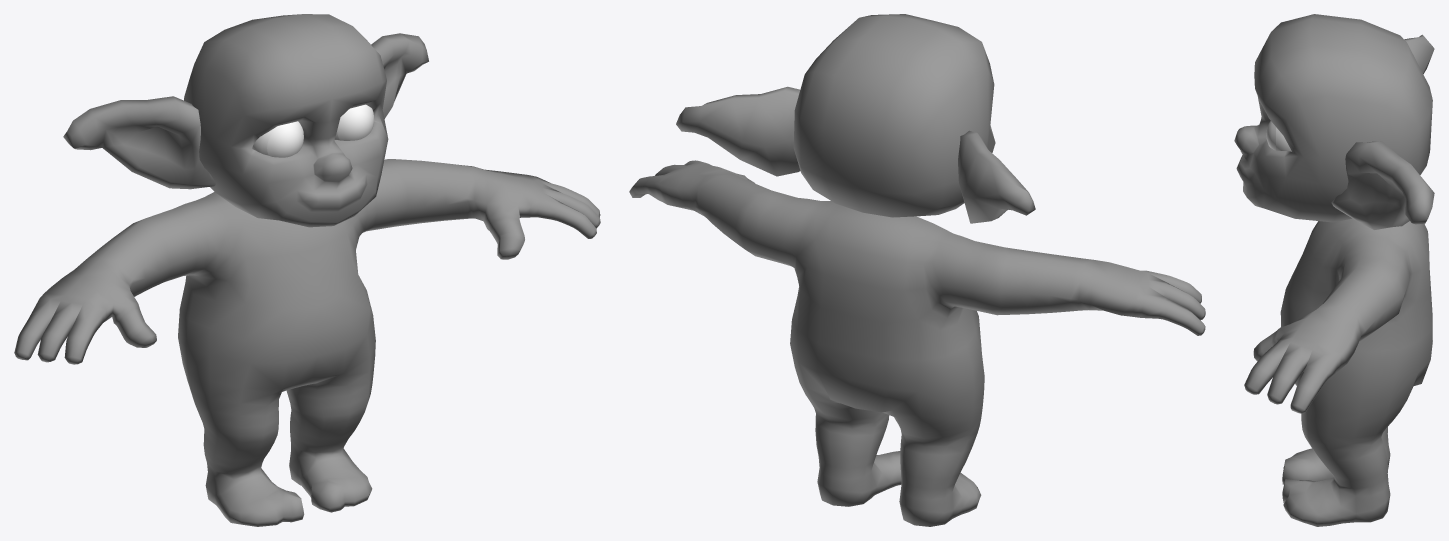
File: goblin.FBX
3 views of the same model, side by side, from view 1: azimuth 30°, elevation 25°; view 2: azimuth 150°, elevation 25°; view 3: azimuth 270°, elevation 25° (orthographic). The views are drawn at different scales.
Visible parts, largest first — view 1: body, head, eyeRight, eyeLeft; view 2: body, head; view 3: body, head, eyeLeft.
Boxes of the visible parts, left/top/right/bottom form: body: left=14, top=159, right=600, bottom=526; head: left=63, top=14, right=428, bottom=227; eyeRight: left=252, top=121, right=303, bottom=157; eyeLeft: left=334, top=104, right=374, bottom=140; body: left=629, top=160, right=1205, bottom=526; head: left=676, top=14, right=1035, bottom=223; body: left=1244, top=218, right=1432, bottom=526; head: left=1234, top=14, right=1434, bottom=229; eyeLeft: left=1266, top=121, right=1291, bottom=151.
Size of the model in its own units: 39.94 by 31.39 by 12.2.
3 materials, 1 textured.
